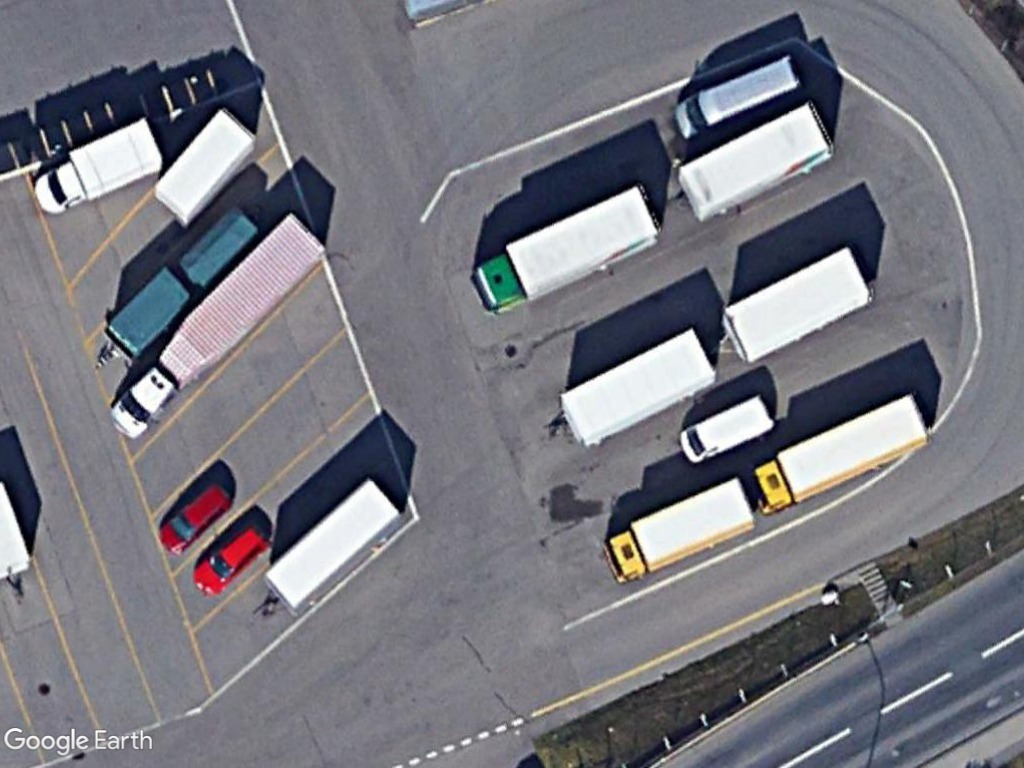car: (673, 395, 778, 468), (191, 519, 271, 601), (158, 480, 238, 557)
longvehicle: (107, 209, 329, 443)
truck: (468, 182, 662, 319), (753, 387, 940, 514), (599, 473, 761, 586), (33, 114, 166, 217)
van: (674, 54, 808, 142)
